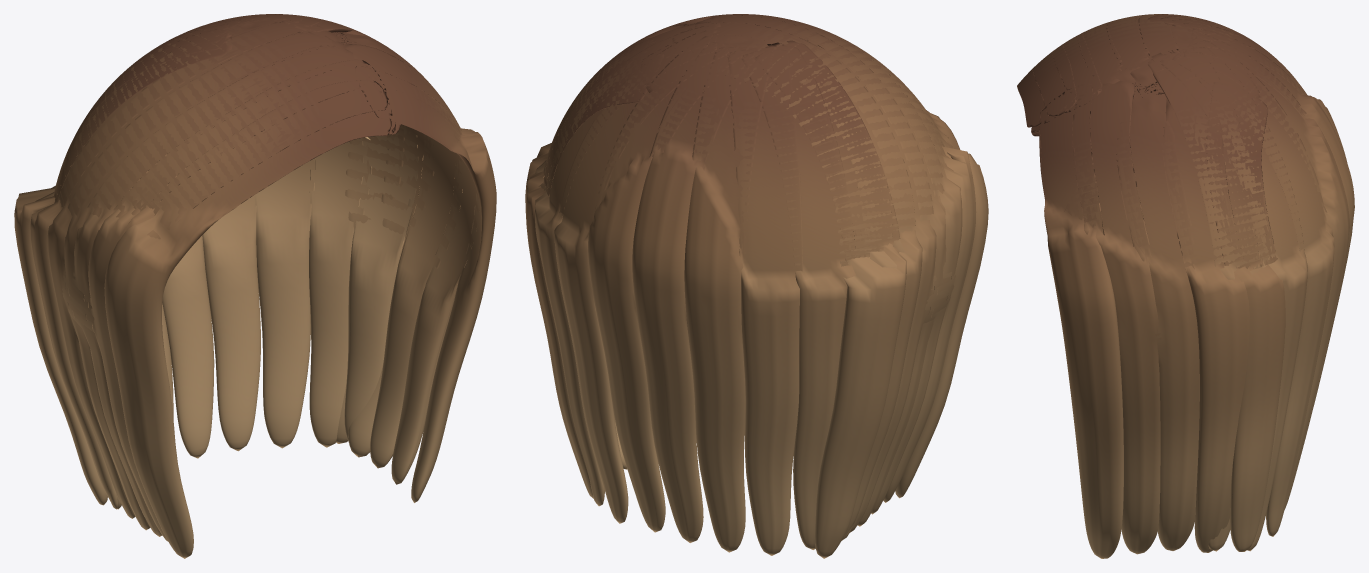
Rendered from Ombre-49fe7fe0863f253-hair.glb.
3 views of the same model, side by side, from view 1: azimuth 30°, elevation 25°; view 2: azimuth 150°, elevation 25°; view 3: azimuth 270°, elevation 25° (orthographic). The views are drawn at different scales.
Parts seen in each view (by area): view 1: 226 hair / Hair / sculpted 0.001, 226 hair / Hair / sculpted 1.002, 226 hair / Hair / sculpted 2.001; view 2: 226 hair / Hair / sculpted 0.001, 226 hair / Hair / sculpted 2.001, 226 hair / Hair / sculpted 1.002; view 3: 226 hair / Hair / sculpted 1.002, 226 hair / Hair / sculpted 2.001, 226 hair / Hair / sculpted 0.001.
Boxes of the visible parts, <box> form: 226 hair / Hair / sculpted 0.001: <box>14,14,462,558</box>; 226 hair / Hair / sculpted 1.002: <box>47,14,496,541</box>; 226 hair / Hair / sculpted 2.001: <box>30,14,479,536</box>; 226 hair / Hair / sculpted 0.001: <box>554,14,988,558</box>; 226 hair / Hair / sculpted 2.001: <box>525,14,962,549</box>; 226 hair / Hair / sculpted 1.002: <box>525,14,976,555</box>; 226 hair / Hair / sculpted 1.002: <box>1032,14,1349,558</box>; 226 hair / Hair / sculpted 2.001: <box>1053,14,1354,554</box>; 226 hair / Hair / sculpted 0.001: <box>1017,14,1347,550</box>.
Size of the model in its own units: 1.02 by 1.17 by 0.7662.
Materials: 4 (4 with a texture image).
